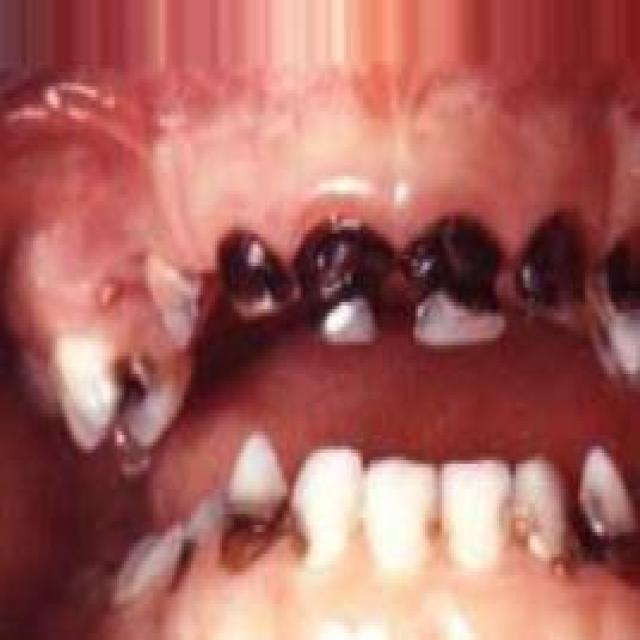caries: (396, 207, 512, 356), (296, 213, 397, 352), (222, 470, 322, 588), (510, 202, 585, 332), (214, 221, 300, 333), (507, 457, 578, 588), (583, 215, 640, 372), (577, 448, 640, 590), (97, 342, 168, 435), (160, 522, 210, 600)
